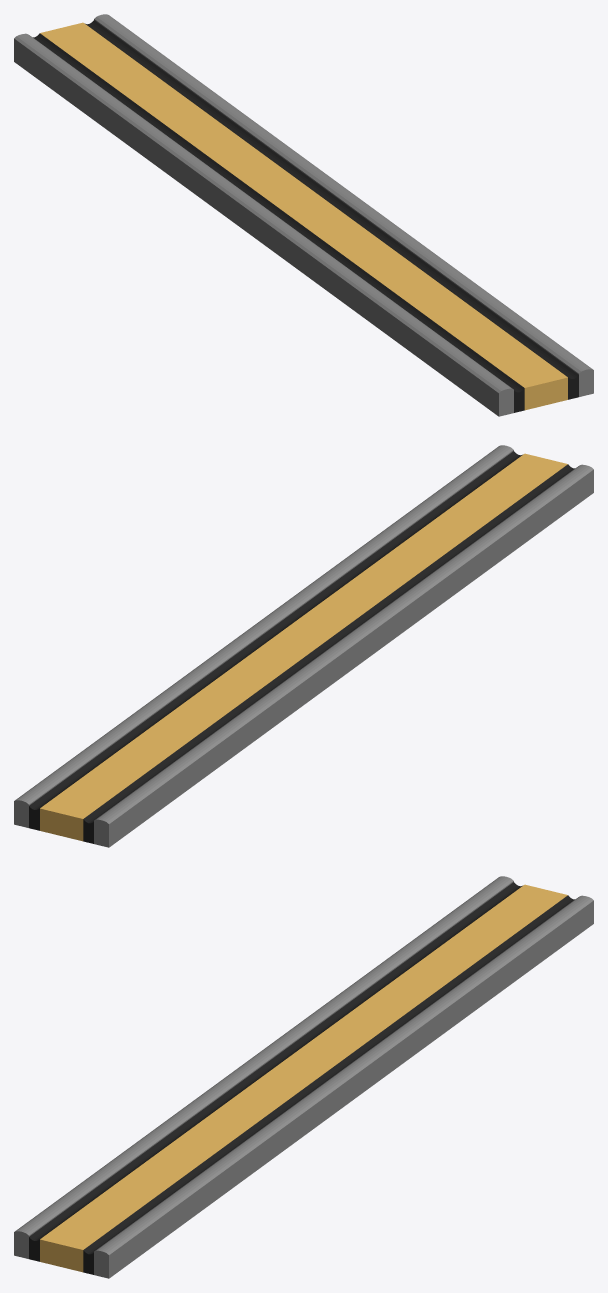
Rendered from bowlingAlley.fbx.
3 views of the same model, one above another, from view 1: azimuth 30°, elevation 25°; view 2: azimuth 150°, elevation 25°; view 3: azimuth 330°, elevation 25° (orthographic).
Parts seen in each view (by area): view 1: Alley; view 2: Alley; view 3: Alley.
Boxes of the visible parts, x1=… form: Alley: x1=14, y1=14, x2=593, y2=416; Alley: x1=14, y1=445, x2=593, y2=847; Alley: x1=14, y1=876, x2=593, y2=1278.
Size of the model in its own units: 2.22 by 19.6 by 0.5726.
